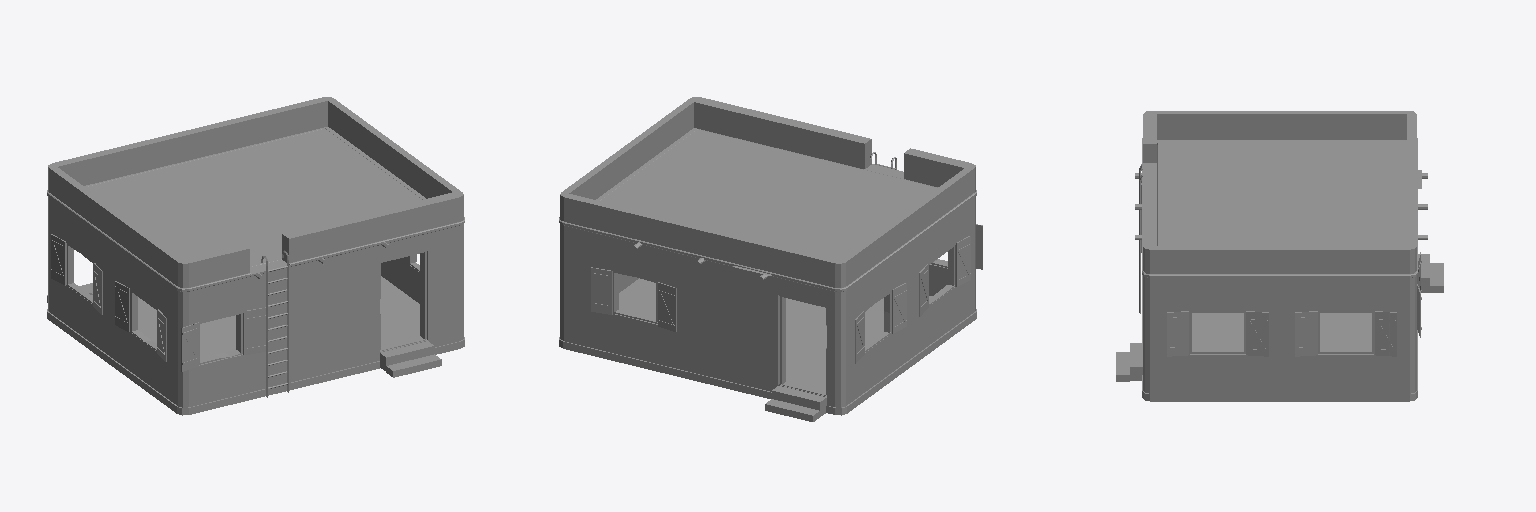
Rendered from house.obj.
3 renders of one model, left to right at view 1: azimuth 30°, elevation 25°; view 2: azimuth 150°, elevation 25°; view 3: azimuth 270°, elevation 25°, orthographic.
Visible parts, largest first — view 1: Cube.001_Cube.009; view 2: Cube.001_Cube.009; view 3: Cube.001_Cube.009.
Boxes of the visible parts, x1,y1,x2,y2 form: Cube.001_Cube.009: [47, 97, 464, 415]; Cube.001_Cube.009: [559, 97, 982, 421]; Cube.001_Cube.009: [1116, 111, 1443, 401].
Size of the model in its own units: 14.63 by 7.2 by 14.14.